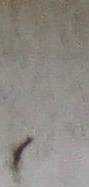Exposed reinforcement: (13, 137, 32, 168)
